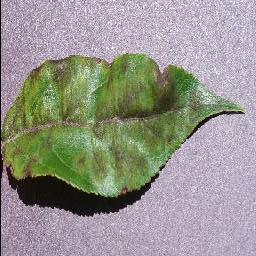apple healthy: (0, 51, 245, 200)
